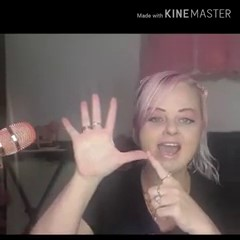A: (58, 90, 208, 234)
